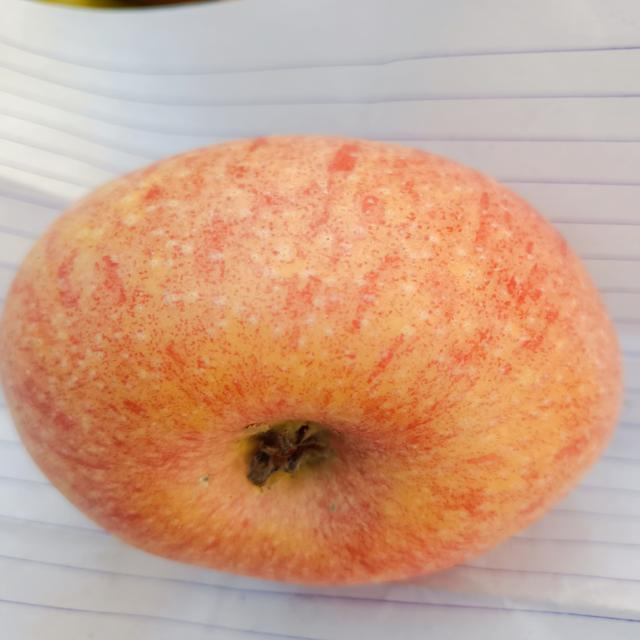Fresh Apple: (0, 126, 624, 579)
